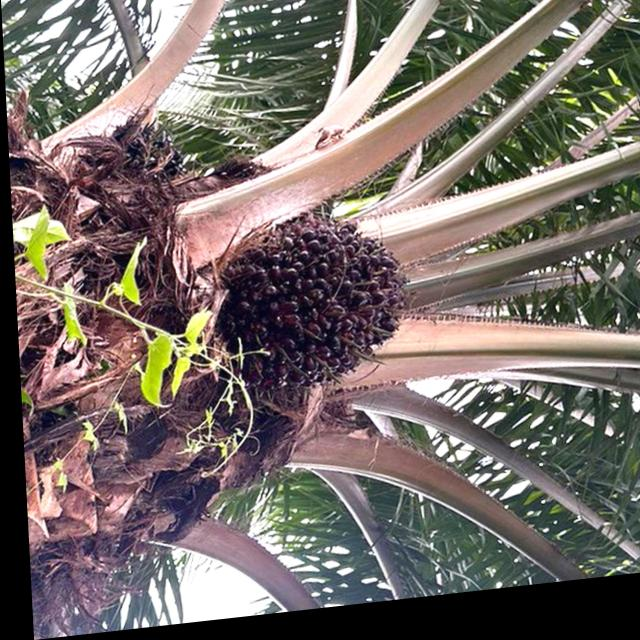ripe: (229, 210, 420, 408)
